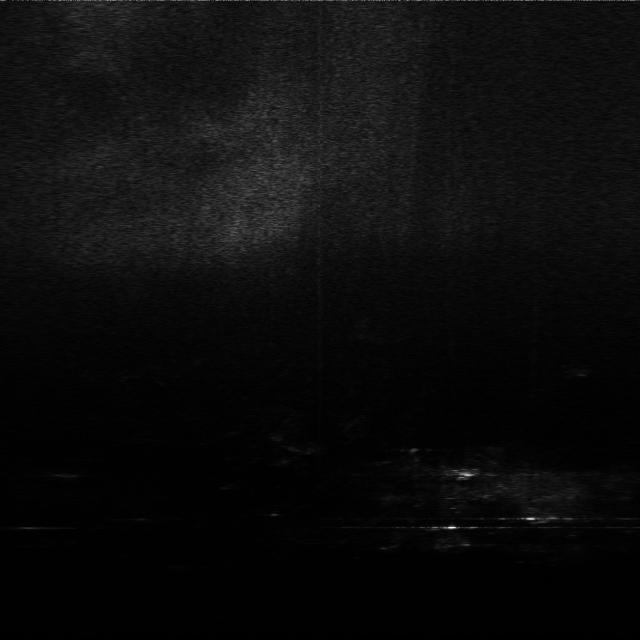rov: (450, 462, 480, 482)
